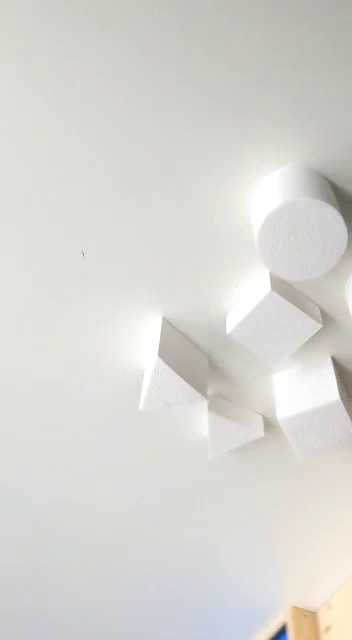Cube: (263, 360, 352, 462)
Cube_short: (218, 267, 327, 372)
Cylinder: (244, 163, 352, 280)
Triangle: (130, 315, 213, 419)
Triangle_short: (199, 392, 269, 463)
